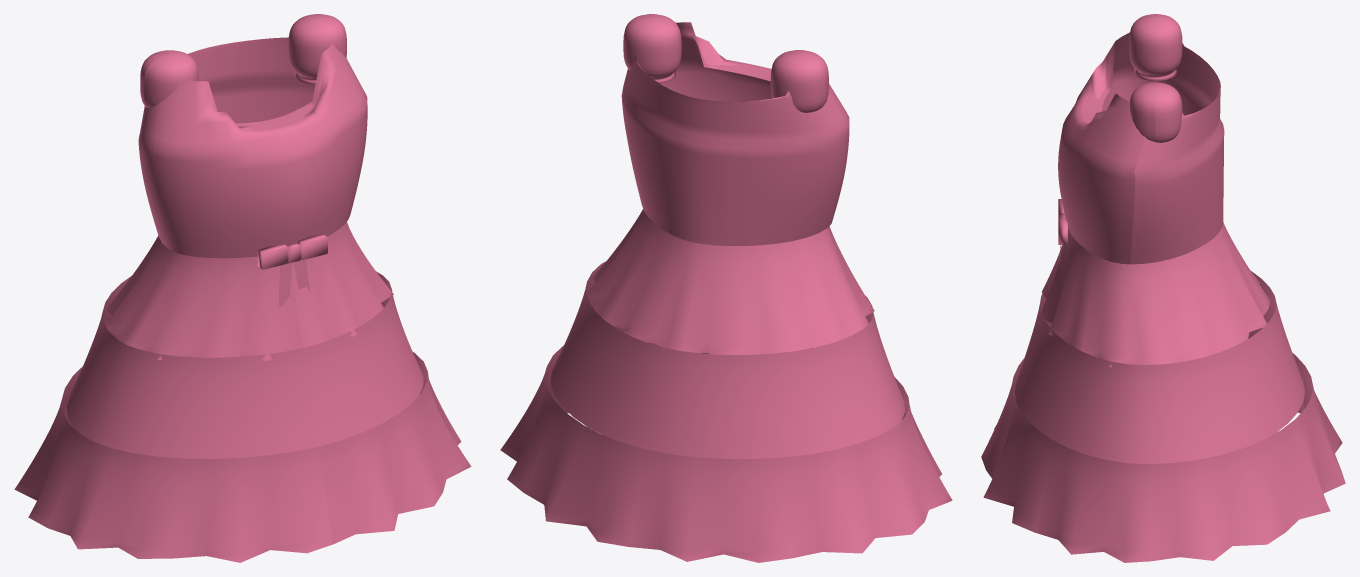
Rendered from dress_floral_puff.glb.
The picture shows the model from 3 angles, left to right: view 1: azimuth 30°, elevation 25°; view 2: azimuth 150°, elevation 25°; view 3: azimuth 270°, elevation 25°; orthographic projection. The views are drawn at different scales.
Visible parts, largest first — view 1: Dress_Floral_Puff_Mesh; view 2: Dress_Floral_Puff_Mesh; view 3: Dress_Floral_Puff_Mesh.
Boxes of the visible parts, x1=… form: Dress_Floral_Puff_Mesh: x1=14, y1=14, x2=471, y2=562; Dress_Floral_Puff_Mesh: x1=500, y1=14, x2=952, y2=562; Dress_Floral_Puff_Mesh: x1=981, y1=14, x2=1345, y2=562.
Size of the model in its own units: 0.8146 by 0.855 by 0.6764.
